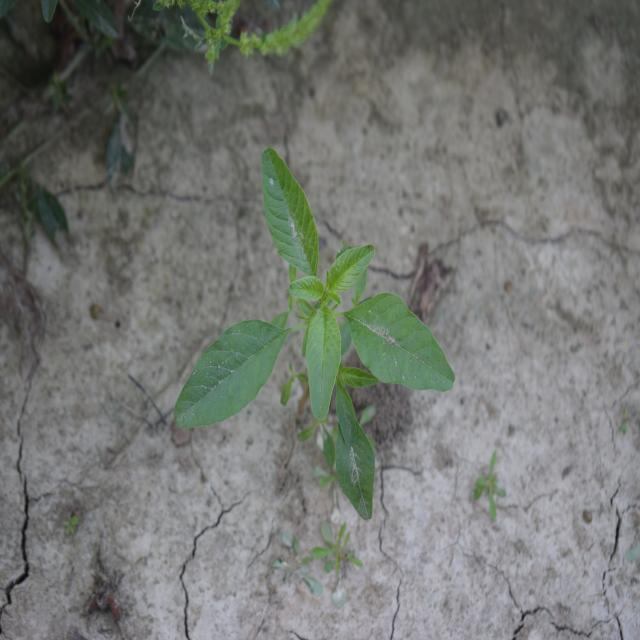Carpetweed: (309, 520, 366, 613)
Waterhemp: (172, 145, 457, 522)
